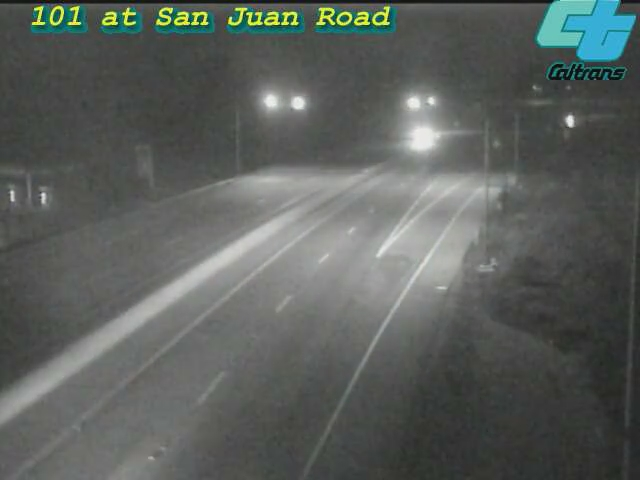vehicle: (396, 111, 446, 161), (547, 96, 597, 146)
